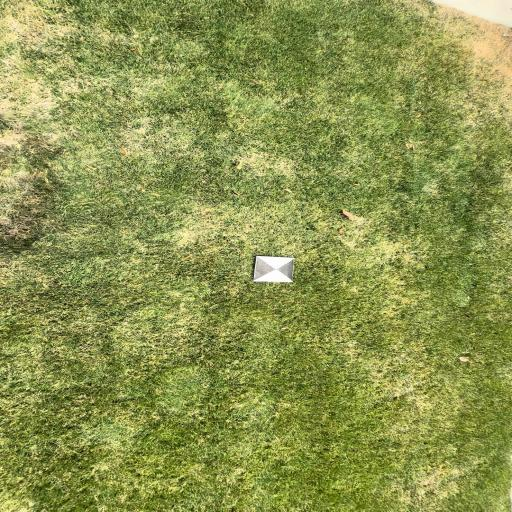target: (253, 256, 295, 282)
